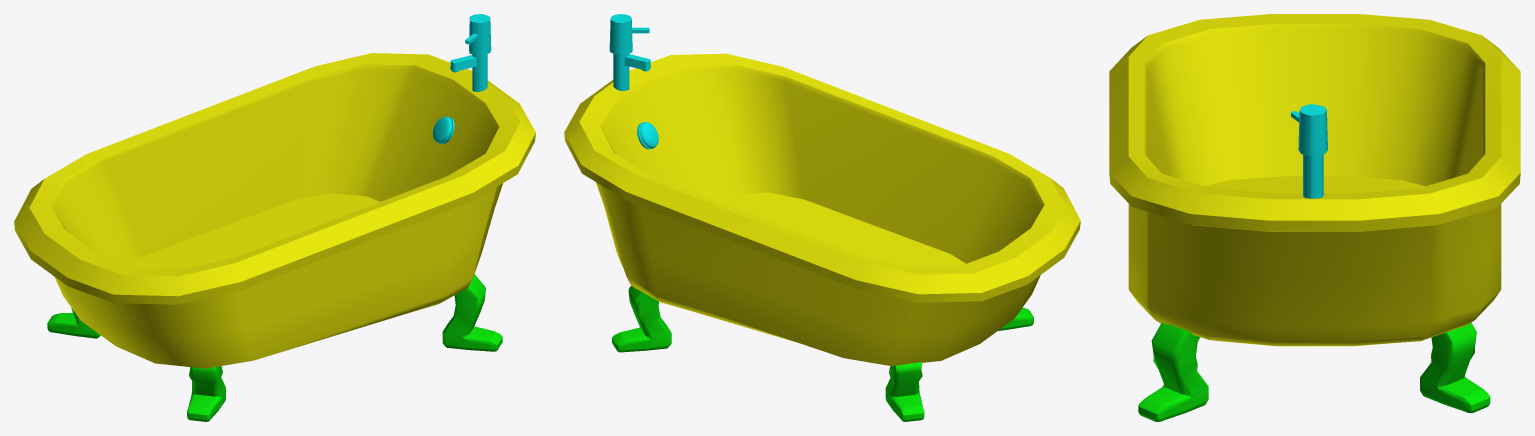
The model's file is tub.fbx.
The picture shows the model from 3 angles, left to right: view 1: azimuth 30°, elevation 25°; view 2: azimuth 150°, elevation 25°; view 3: azimuth 270°, elevation 25°; orthographic projection. The views are drawn at different scales.
Parts seen in each view (by area): view 1: Tub; view 2: Tub; view 3: Tub.
Boxes of the visible parts, left/top/right/bottom form: Tub: left=14, top=14, right=535, bottom=421; Tub: left=564, top=14, right=1080, bottom=421; Tub: left=1109, top=14, right=1520, bottom=421.
Size of the model in its own units: 129 by 73.39 by 80.9.
